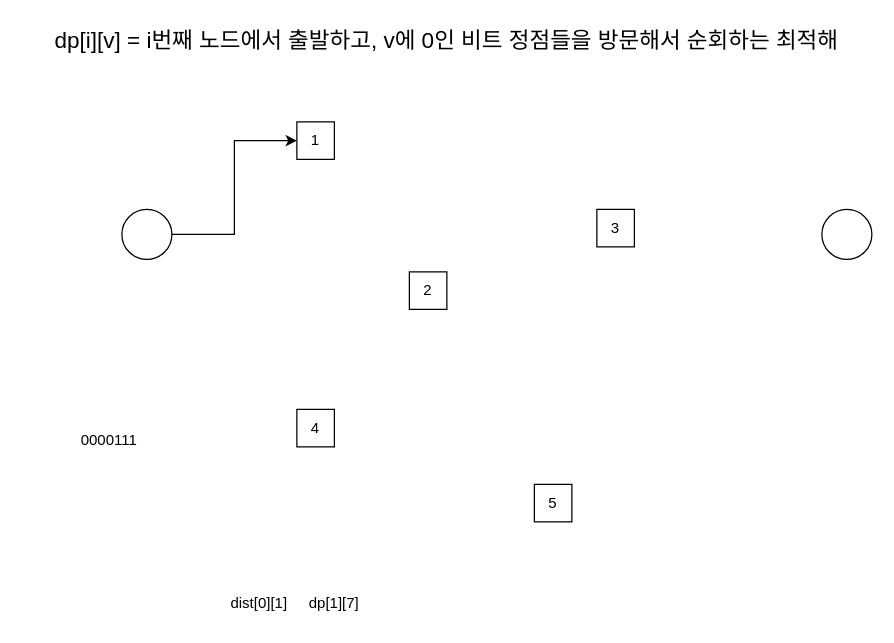
Some shapes in this 894 by 643 pixel diagram are drawn without their labels. The centre of each missing label's shape, as x and y in pixels:
여왕(6): the point at 846,233
왕(0): the point at 146,233
